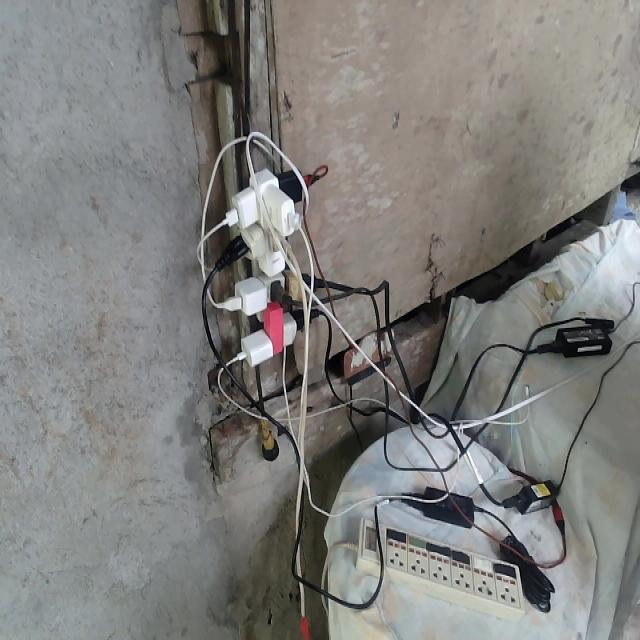-: (209, 166, 326, 366)
